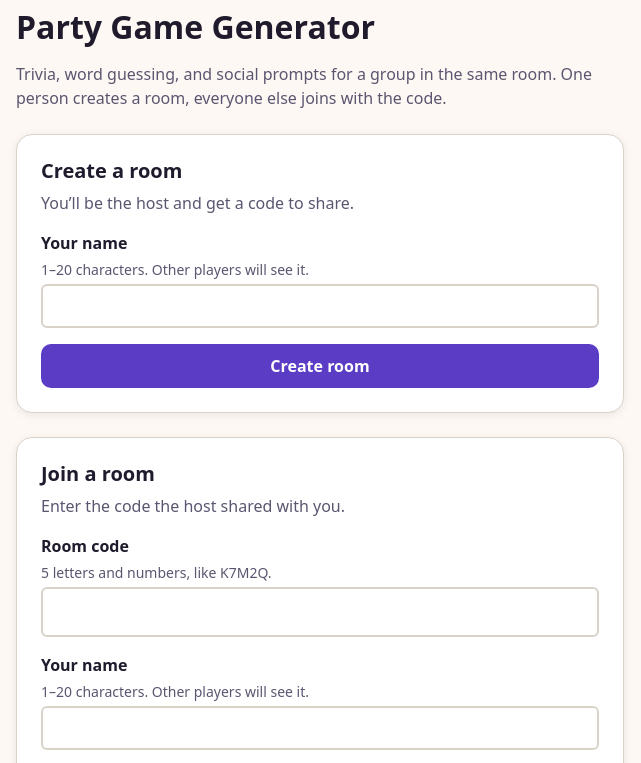
Test: Create room form › never shows a raw error message
Type "Ava" into the field labelled "Your name" below "Create a room".
click(320, 306); type("Ava")  # box [41,284,599,328]
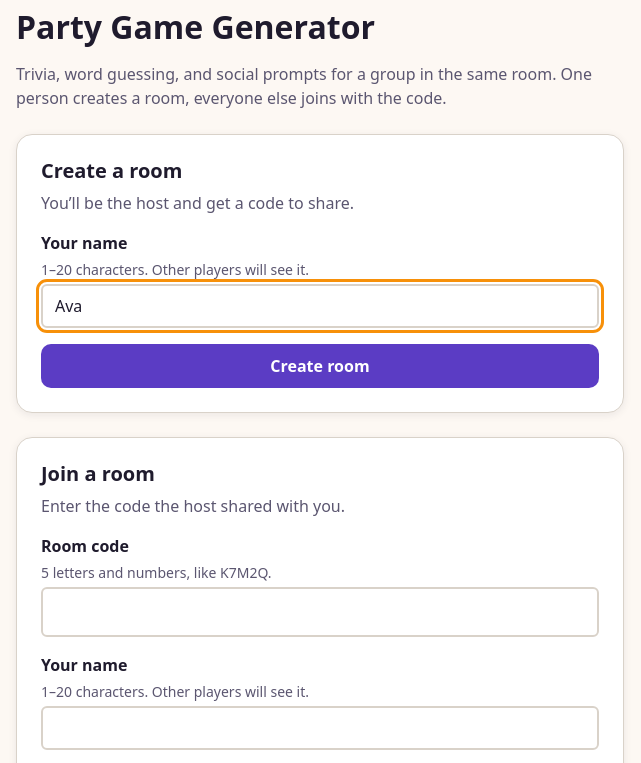
Click the button "Create room".
click(320, 366)  # box [41,344,599,388]
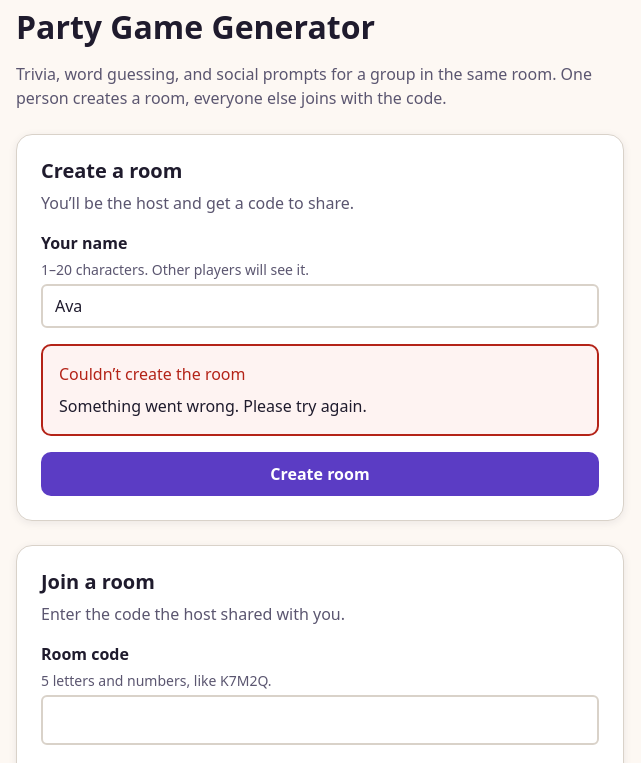
Expected: the message does not show "relation", [41,344,599,436]
Expected: the message shows "Something went wrong. Please try again.", [59,395,367,417]
